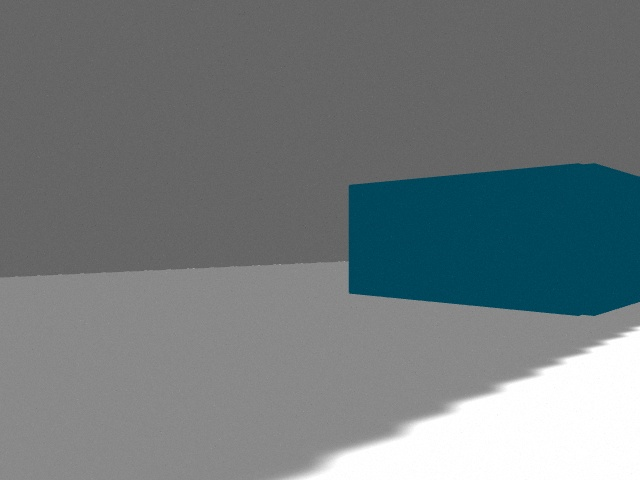blue_drop_zone: (349, 163, 640, 316)
